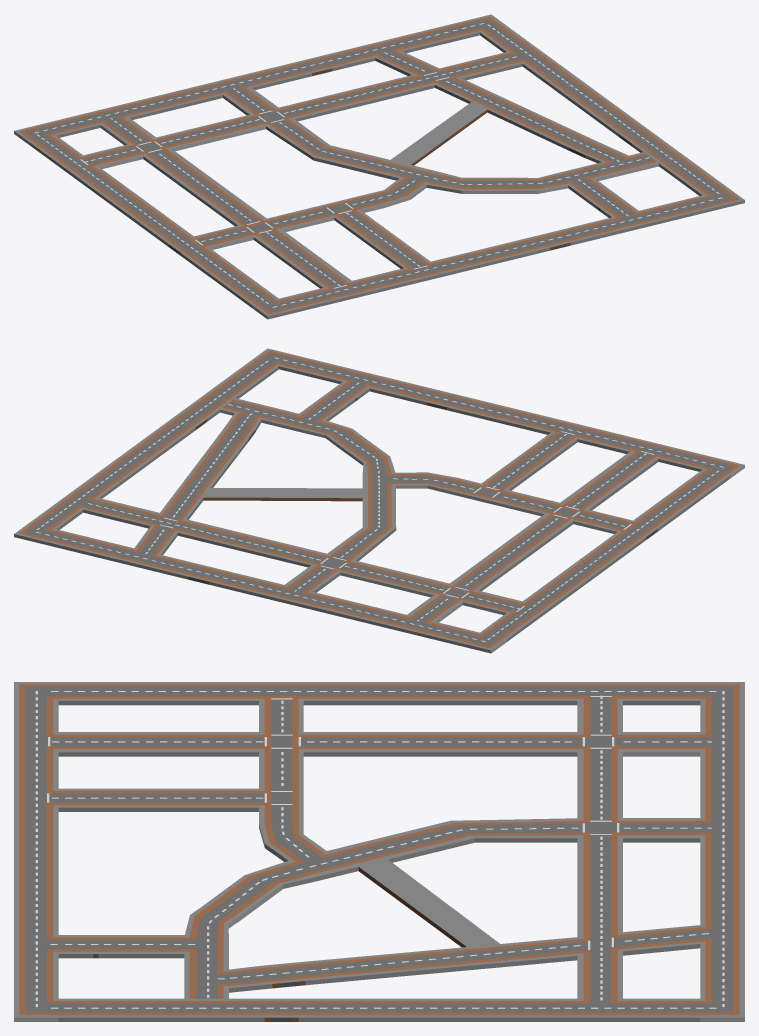
The model's file is road.fbx.
3 views of the same model, one above another, from view 1: azimuth 30°, elevation 25°; view 2: azimuth 150°, elevation 25°; view 3: azimuth 270°, elevation 25° (orthographic). The views are drawn at different scales.
Visible parts, largest first — view 1: pCube1380, pCube1381, intersection4, intersection1, pCube1378, pCube1379, intersection5, intersection3, pCube1385, pCube1370, pCube1383, pCube1384 (+4 smaller); view 2: pCube1381, pCube1380, intersection4, intersection1, pCube1378, pCube1379, intersection5, intersection3, pCube1385, pCube1370, pCube1383, pCube1384 (+5 smaller); view 3: pCube1381, pCube1379, pCube1380, pCube1378, intersection1, intersection4, intersection5, pCube1385, intersection3, pCube1370, pCube1383, pCube1384 (+5 smaller).
Boxes of the visible parts, x1=… form: pCube1380: x1=252, y1=188, x2=744, y2=319; pCube1381: x1=14, y1=14, x2=506, y2=144; intersection4: x1=223, y1=52, x2=522, y2=159; intersection1: x1=143, y1=149, x2=351, y2=288; pCube1378: x1=29, y1=135, x2=278, y2=307; pCube1379: x1=480, y1=25, x2=728, y2=195; intersection5: x1=313, y1=102, x2=487, y2=193; intersection3: x1=83, y1=114, x2=265, y2=168; pCube1385: x1=435, y1=78, x2=628, y2=163; pCube1370: x1=319, y1=199, x2=430, y2=268; pCube1383: x1=538, y1=152, x2=658, y2=193; pCube1384: x1=568, y1=179, x2=638, y2=217; pCube1381: x1=14, y1=522, x2=506, y2=653; pCube1380: x1=252, y1=348, x2=744, y2=478; intersection4: x1=83, y1=498, x2=395, y2=592; intersection1: x1=450, y1=452, x2=658, y2=591; pCube1378: x1=480, y1=469, x2=729, y2=641; pCube1379: x1=30, y1=359, x2=278, y2=529; intersection5: x1=203, y1=456, x2=396, y2=530; intersection3: x1=340, y1=560, x2=522, y2=622; pCube1385: x1=160, y1=413, x2=261, y2=519; pCube1370: x1=466, y1=432, x2=577, y2=504; pCube1383: x1=220, y1=398, x2=351, y2=438; pCube1384: x1=299, y1=382, x2=369, y2=421; pCube1381: x1=700, y1=682, x2=744, y2=1021; pCube1379: x1=58, y1=998, x2=700, y2=1021; pCube1380: x1=14, y1=682, x2=58, y2=1021; pCube1378: x1=58, y1=682, x2=700, y2=705; intersection1: x1=58, y1=700, x2=577, y2=760; intersection4: x1=451, y1=818, x2=701, y2=998; intersection5: x1=245, y1=820, x2=499, y2=947; pCube1385: x1=228, y1=937, x2=578, y2=992; intersection3: x1=577, y1=700, x2=700, y2=818; pCube1370: x1=58, y1=788, x2=303, y2=811; pCube1383: x1=184, y1=915, x2=228, y2=998; pCube1384: x1=58, y1=935, x2=184, y2=958.
Bounding box in the file's own units: 6882 × 43.3 × 6335.
